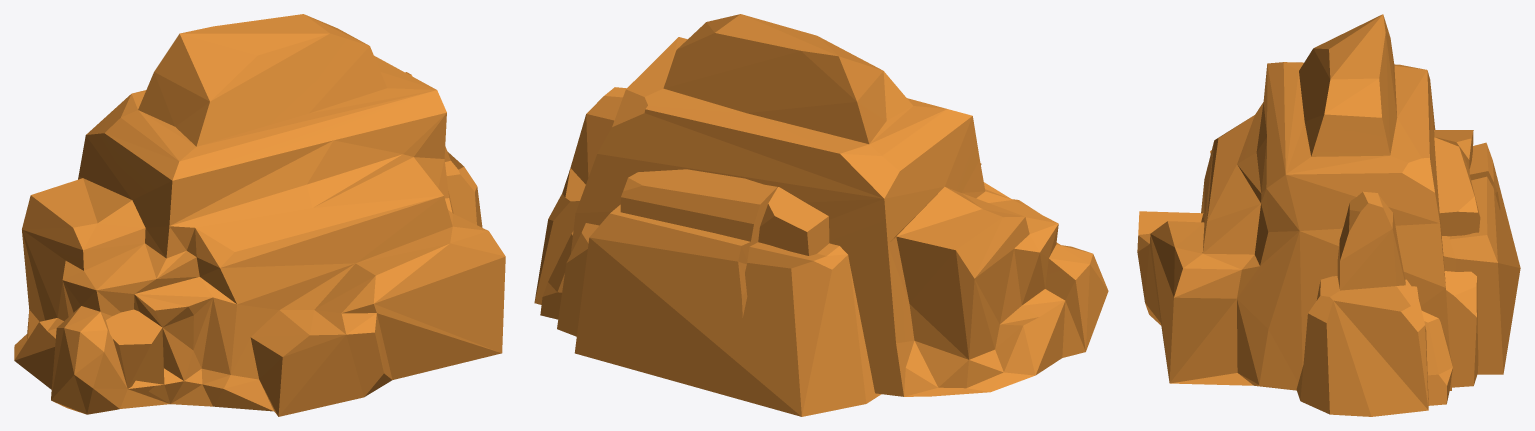
The model's file is desertmountain1.fbx.
3 renders of one model, left to right at view 1: azimuth 30°, elevation 25°; view 2: azimuth 150°, elevation 25°; view 3: azimuth 270°, elevation 25°, orthographic. The views are drawn at different scales.
Parts seen in each view (by area): view 1: Cube.002; view 2: Cube.002; view 3: Cube.002.
Boxes of the visible parts, x1=… form: Cube.002: x1=14, y1=14, x2=505, y2=416; Cube.002: x1=534, y1=14, x2=1108, y2=416; Cube.002: x1=1137, y1=14, x2=1520, y2=416.
Size of the model in its own units: 1235 by 733 by 928.
